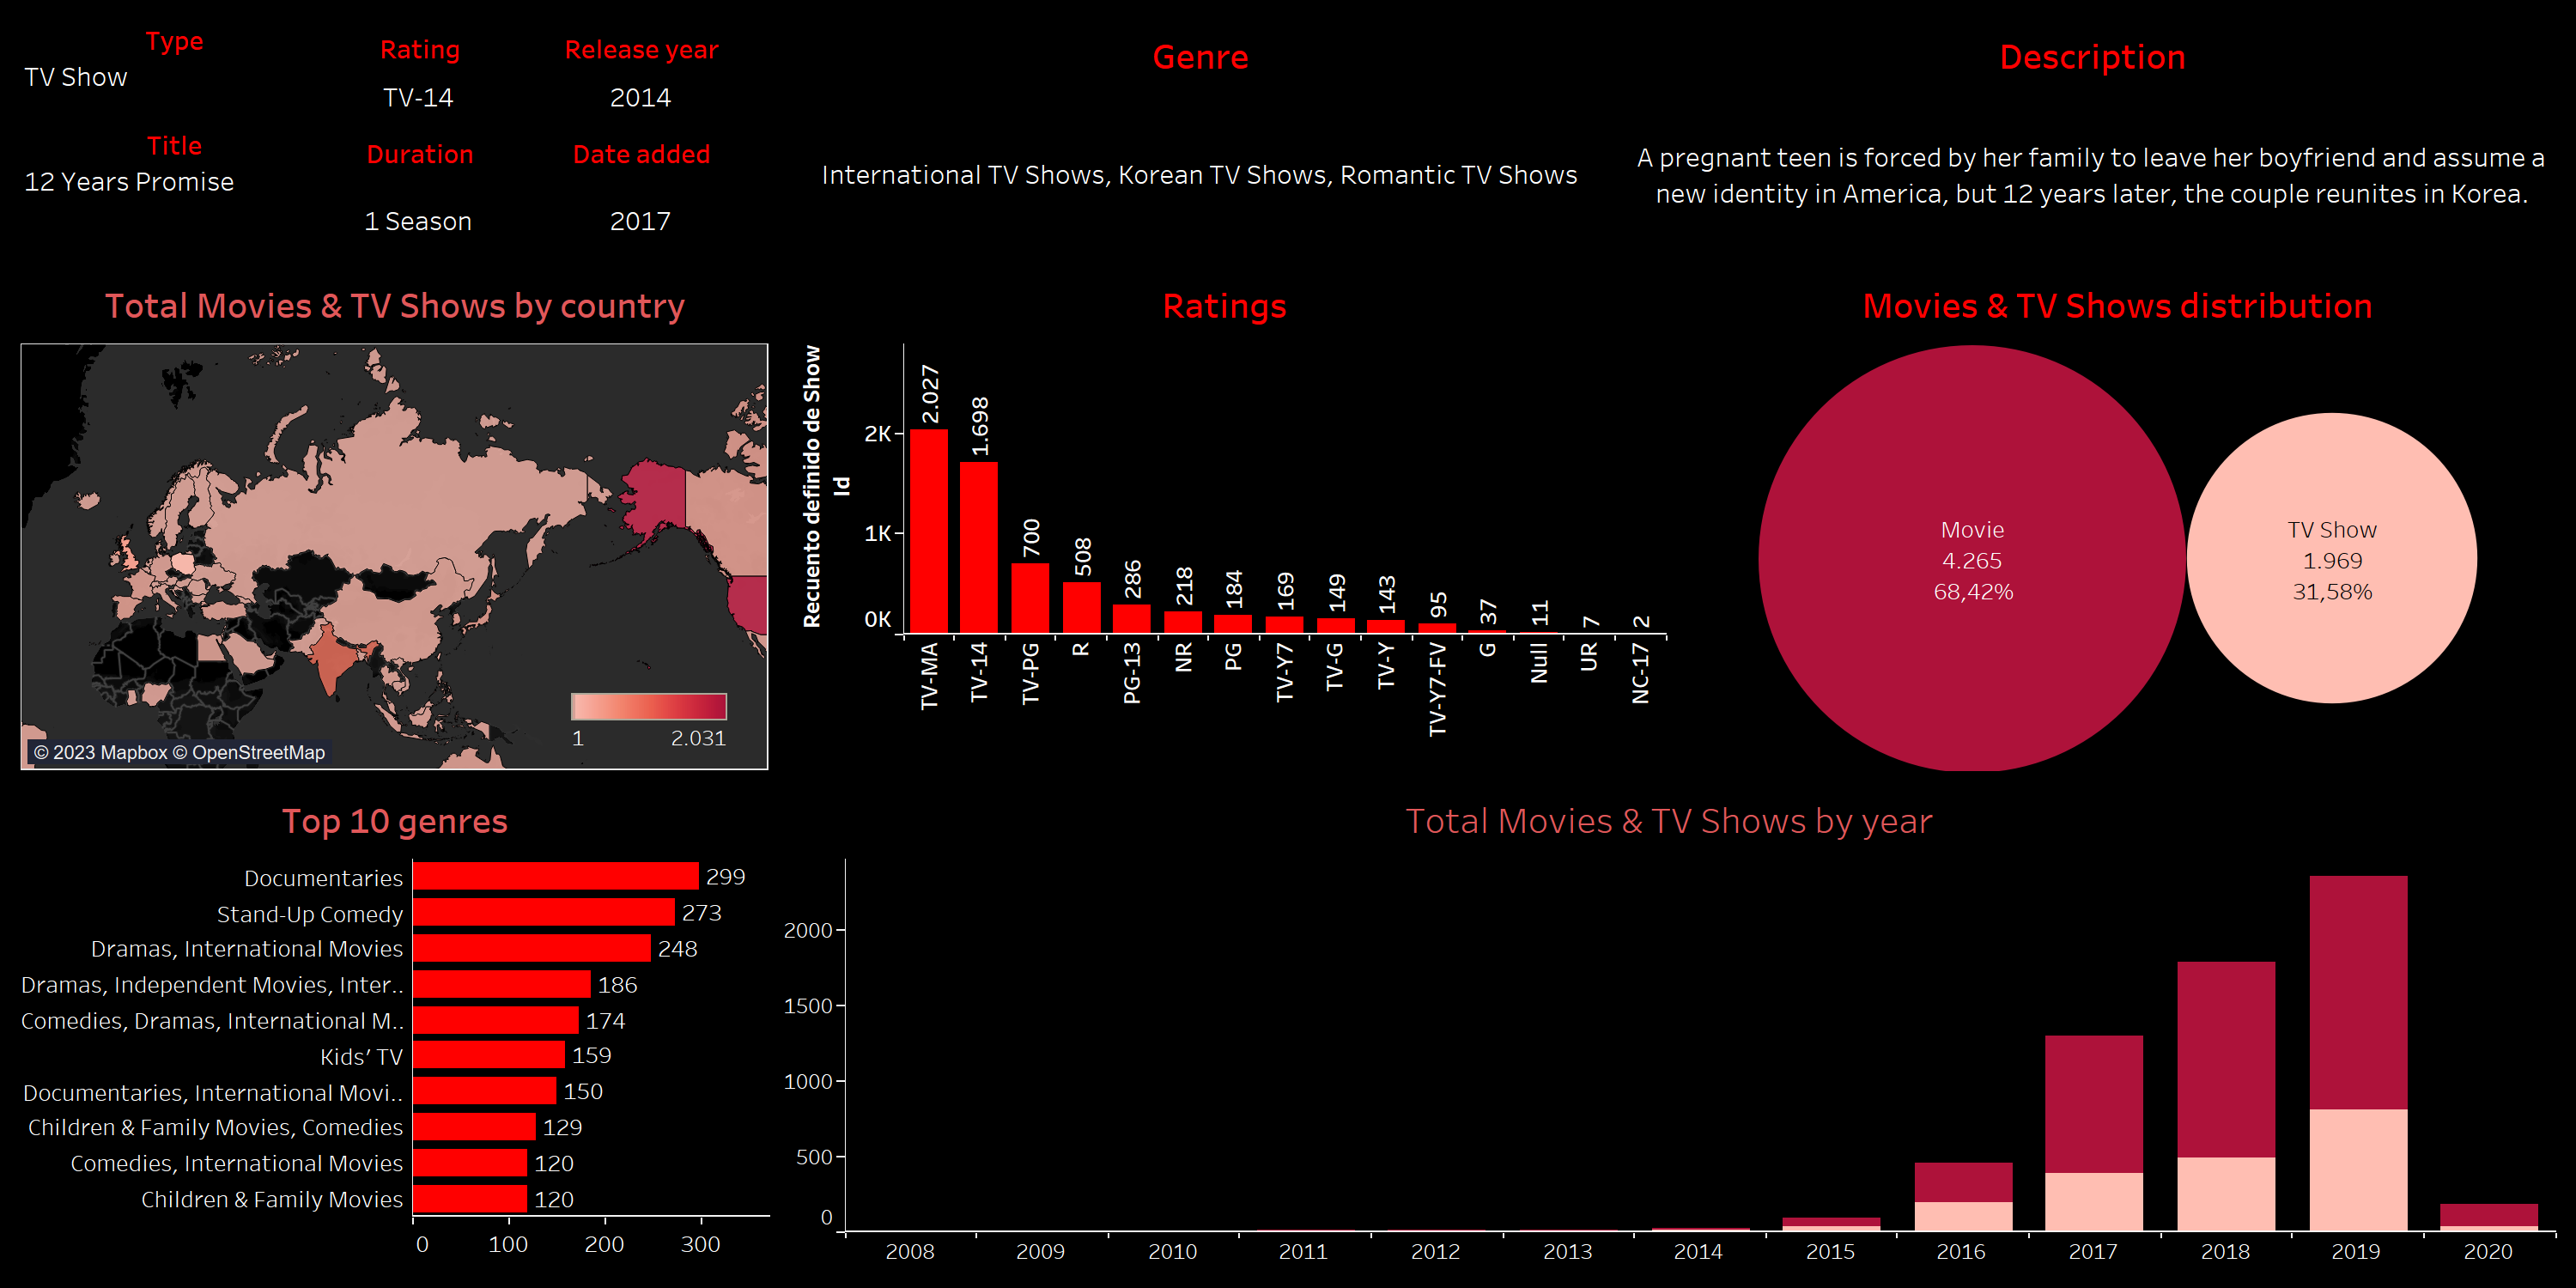

Layout of this report page (visuals, bound fields, positions):
{"tool":"tableau","page":{"name":"Netflix","canvas":[1500,750],"ordinal":0},"visuals":[{"type":"filter","title":"Description","param":"[federated.157sj751oup8mp1201svl1g1fp79].[none:type:nk]","box":[8,8,187.2,61]},{"type":"worksheet","title":"Individual rating","mark":"Automatic","box":[195.2,8,99.4,61]},{"type":"worksheet","title":"Release year","mark":"Automatic","box":[294.6,8,157.2,61]},{"type":"worksheet","title":"Genre","mark":"Automatic","box":[451.8,8,493.5,145]},{"type":"worksheet","title":"Description","mark":"Automatic","box":[945.3,8,546.7,145]},{"type":"filter","title":"Description","param":"[federated.157sj751oup8mp1201svl1g1fp79].[none:title:nk]","box":[8,69,187.2,84]},{"type":"worksheet","title":"Duration","mark":"Automatic","box":[195.2,69,99.4,84]},{"type":"worksheet","title":"Date added","mark":"Automatic","box":[294.6,69,157.2,84]},{"type":"worksheet","title":"Total Movies & TV Shows by Country","mark":"Multipolygon","box":[8,153,443.8,300]},{"type":"worksheet","title":"Ratings","mark":"Automatic","rows":["show_id"],"cols":["rating"],"box":[451.8,153,522.3,300]},{"type":"worksheet","title":"Movies & TV Shows distribution","mark":"Circle","box":[974.1,153,517.9,300]},{"type":"legend","title":"Total Movies & TV Shows by Country","param":"[federated.157sj751oup8mp1201svl1g1fp79].[ctd:show_id:qk]","box":[329,400,99,35]},{"type":"worksheet","title":"Top 10 genres","mark":"Automatic","rows":["listed_in"],"cols":["show_id"],"box":[8,453,443.8,289]},{"type":"worksheet","title":"Total Movies & TV Shows by Years","mark":"Bar","rows":["show_id"],"cols":["date_added"],"box":[451.8,453,1040.2,289]}]}

Visuals, with their boxes in screenshot pixels (x1, y1, x2, y2), scaled from the page's 1500x750 canvas onto the 2576x1288 screenshot:
"Description" filter: locate(14, 14, 335, 118)
"Individual rating" worksheet: locate(335, 14, 506, 118)
"Release year" worksheet: locate(506, 14, 776, 118)
"Genre" worksheet: locate(776, 14, 1624, 263)
"Description" worksheet: locate(1624, 14, 2562, 263)
"Description" filter: locate(14, 118, 335, 263)
"Duration" worksheet: locate(335, 118, 506, 263)
"Date added" worksheet: locate(506, 118, 776, 263)
"Total Movies & TV Shows by Country" worksheet (Multipolygon marks): locate(14, 263, 776, 778)
"Ratings" worksheet: locate(776, 263, 1673, 778)
"Movies & TV Shows distribution" worksheet (Circle marks): locate(1673, 263, 2562, 778)
"Total Movies & TV Shows by Country" legend: locate(565, 687, 735, 747)
"Top 10 genres" worksheet: locate(14, 778, 776, 1274)
"Total Movies & TV Shows by Years" worksheet (Bar marks): locate(776, 778, 2562, 1274)
